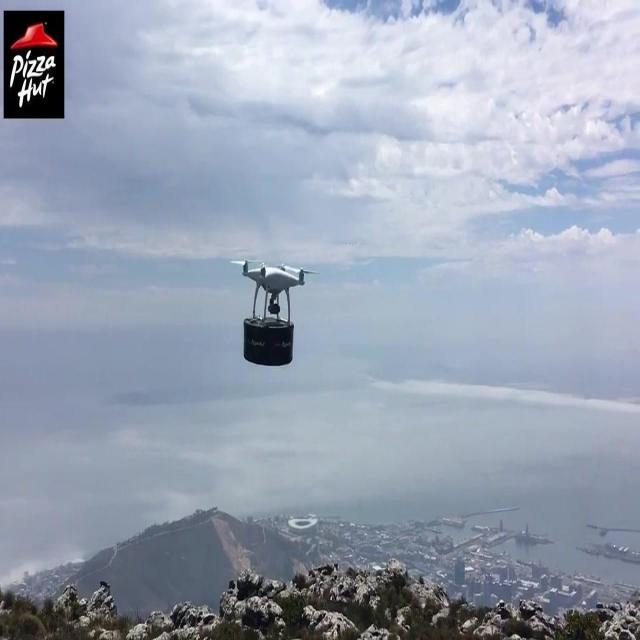UAV: (230, 260, 320, 324)
